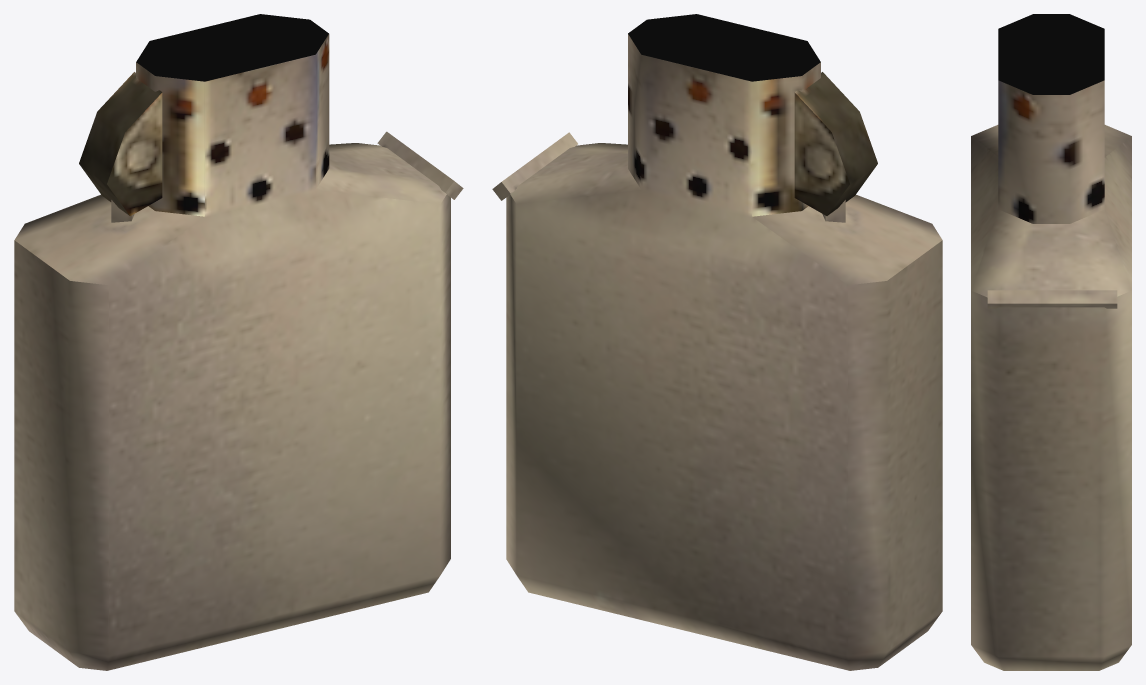
File: Zippo.glb
The picture shows the model from 3 angles, left to right: view 1: azimuth 30°, elevation 25°; view 2: azimuth 150°, elevation 25°; view 3: azimuth 270°, elevation 25°; orthographic projection. The views are drawn at different scales.
Parts seen in each view (by area): view 1: Zippo.001; view 2: Zippo.001; view 3: Zippo.001.
Part boxes in pixels (x1,y1,x2,y2): Zippo.001: (14,14,463,670); Zippo.001: (492,14,942,670); Zippo.001: (971,14,1131,670).
Bounding box in the file's own units: 0.1131 × 0.1554 × 0.0425.
1 material, 1 textured.
